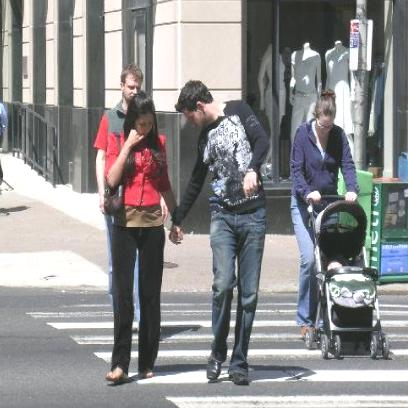ped: (171, 80, 271, 385), (291, 89, 390, 358), (105, 94, 183, 381)
